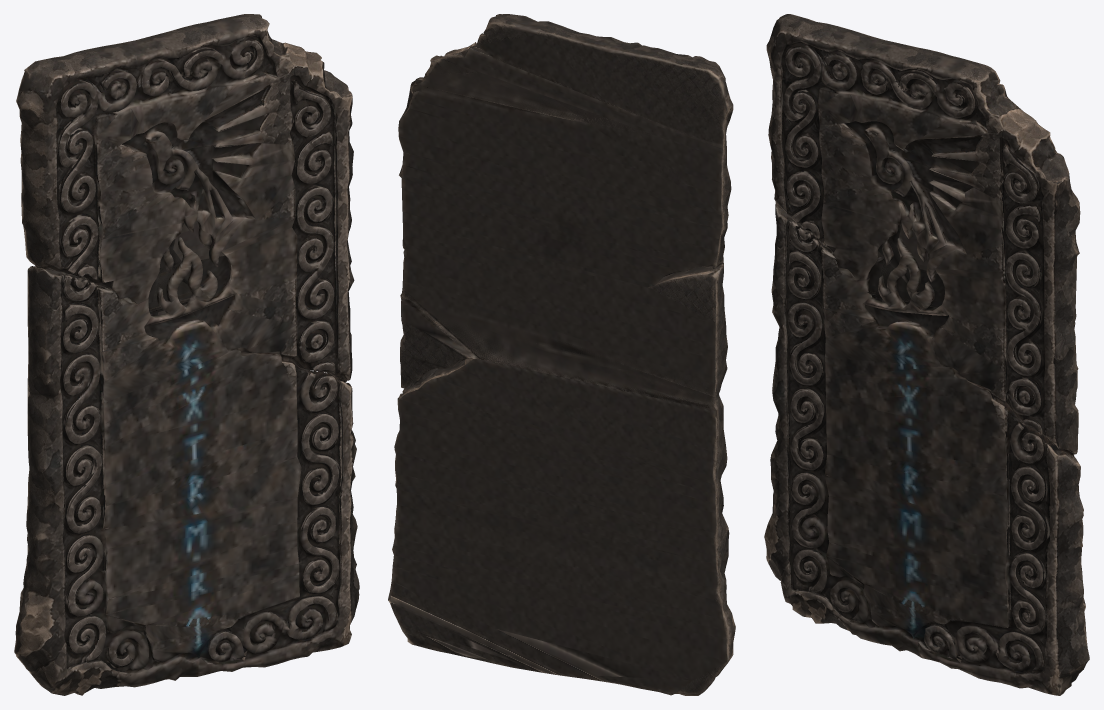
The model's file is EirikCarving.fbx.
3 renders of one model, left to right at view 1: azimuth 30°, elevation 25°; view 2: azimuth 150°, elevation 25°; view 3: azimuth 330°, elevation 25°, orthographic. The views are drawn at different scales.
Visible parts, largest first — view 1: Mesh_0; view 2: Mesh_0; view 3: Mesh_0.
Part boxes in pixels (x1,y1,x2,y2): Mesh_0: [14, 14, 359, 695]; Mesh_0: [388, 14, 735, 695]; Mesh_0: [764, 14, 1089, 695].
Size of the model in its own units: 52.59 by 95.12 by 4.44.
Materials: 1 (1 with a texture image).
